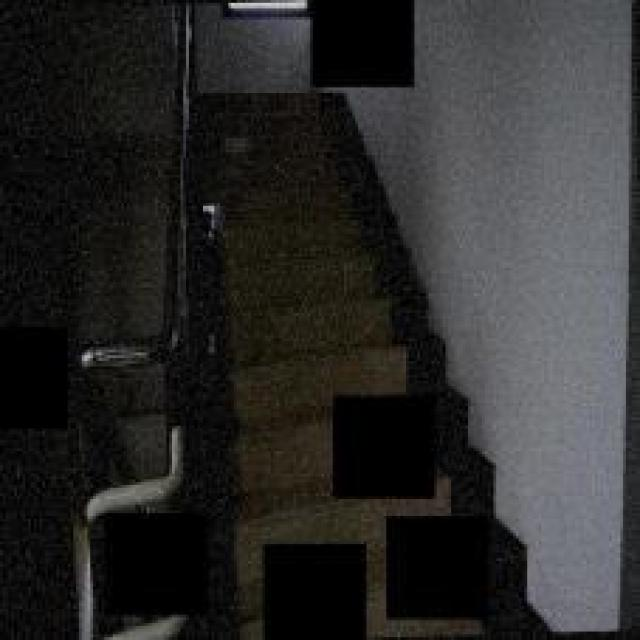upstair: (224, 125, 407, 359)
